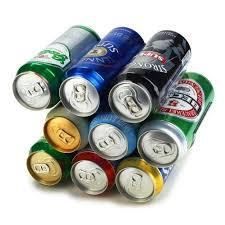beer: (12, 24, 217, 206)
